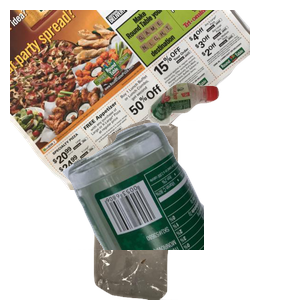glass: (60, 120, 300, 300)
paper: (10, 10, 250, 190)
plastic: (146, 80, 300, 198)
trash: (70, 120, 256, 300)
